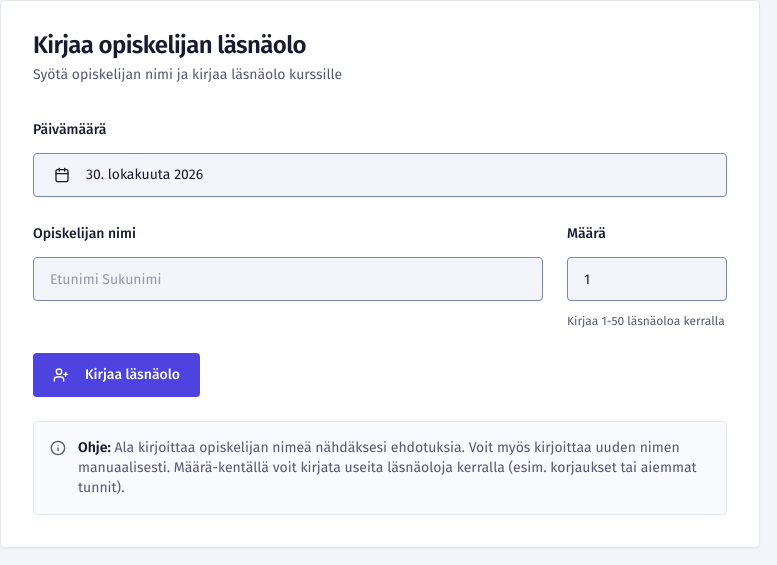
Scenario: AttendanceTracking Component › should update input values when typing
The width and height of the screenshot is (777, 565).
Step 1. Type "John Doe" into the dropdown labelled "Opiskelijan nimi" → (288, 279), box [33,257,543,301]
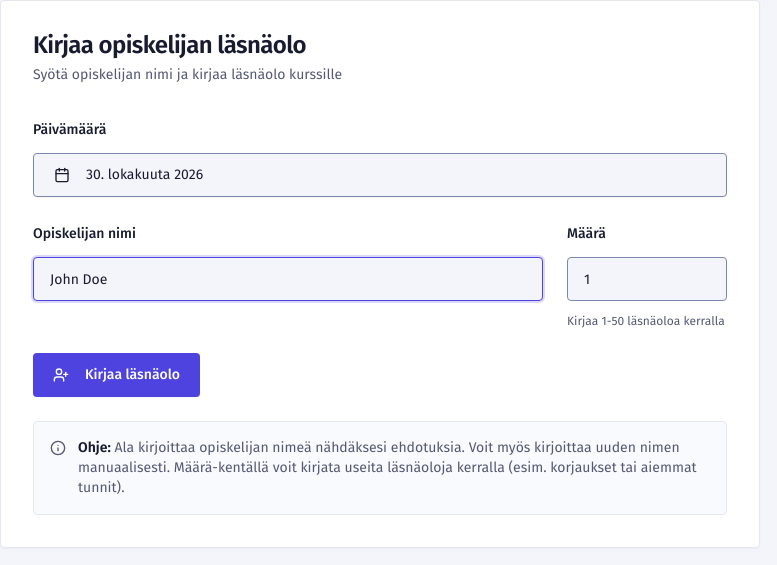
Select all and replace to avoid appending
Step 2. Click the number field labelled "Määrä" → (647, 279), box [567,257,727,301]
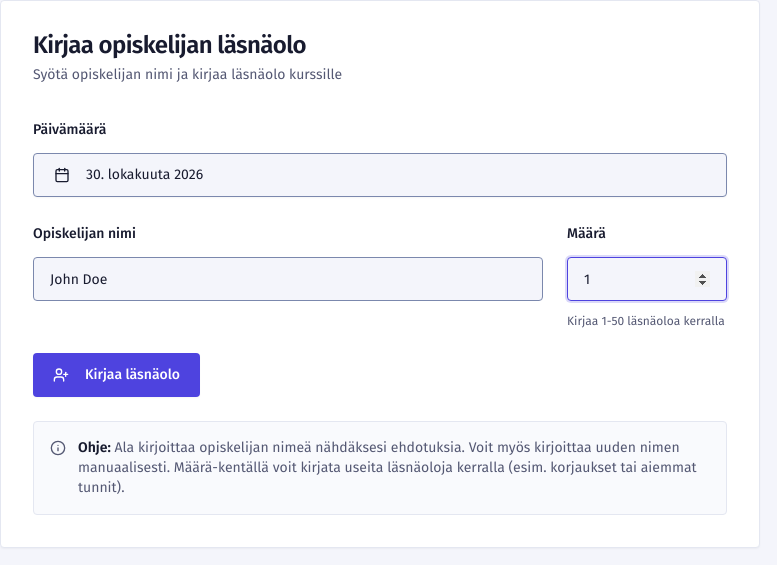
Step 3. Type keys "5"
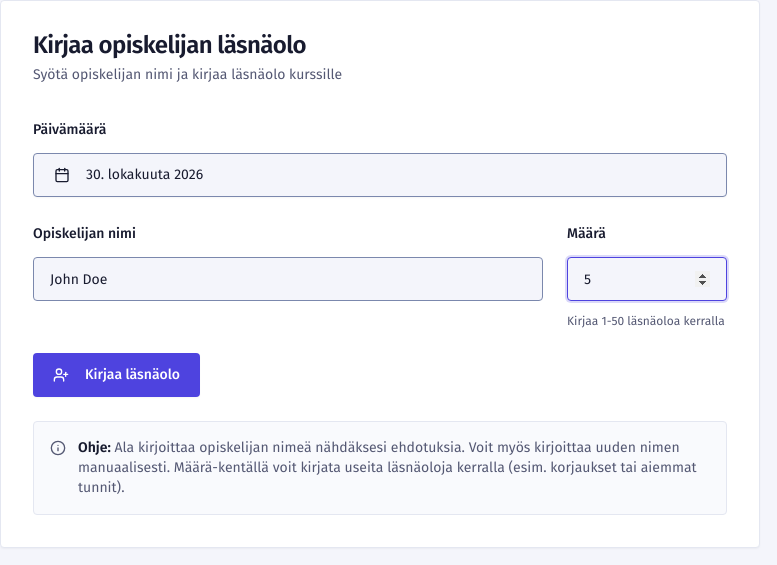
Result: the number field labelled "Määrä" holds "5" at [567,257,727,301]
